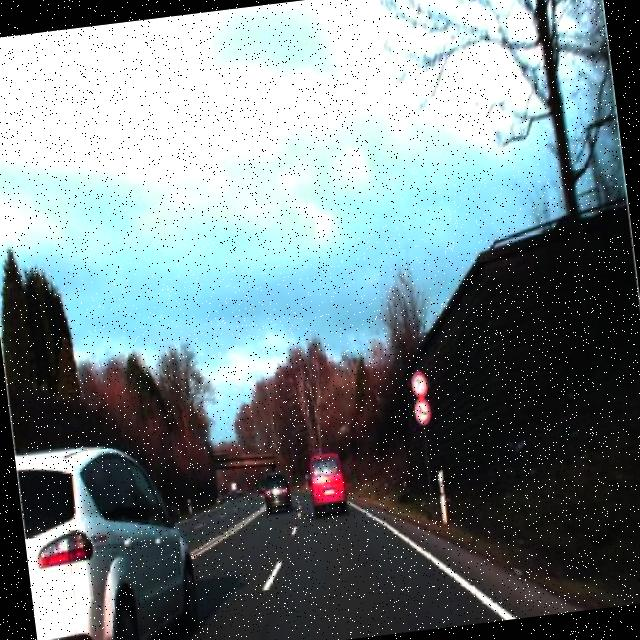Ograniczenie predkosci do 70: (410, 368, 429, 398)
Zakaz wyprzedzania: (413, 397, 433, 428)
